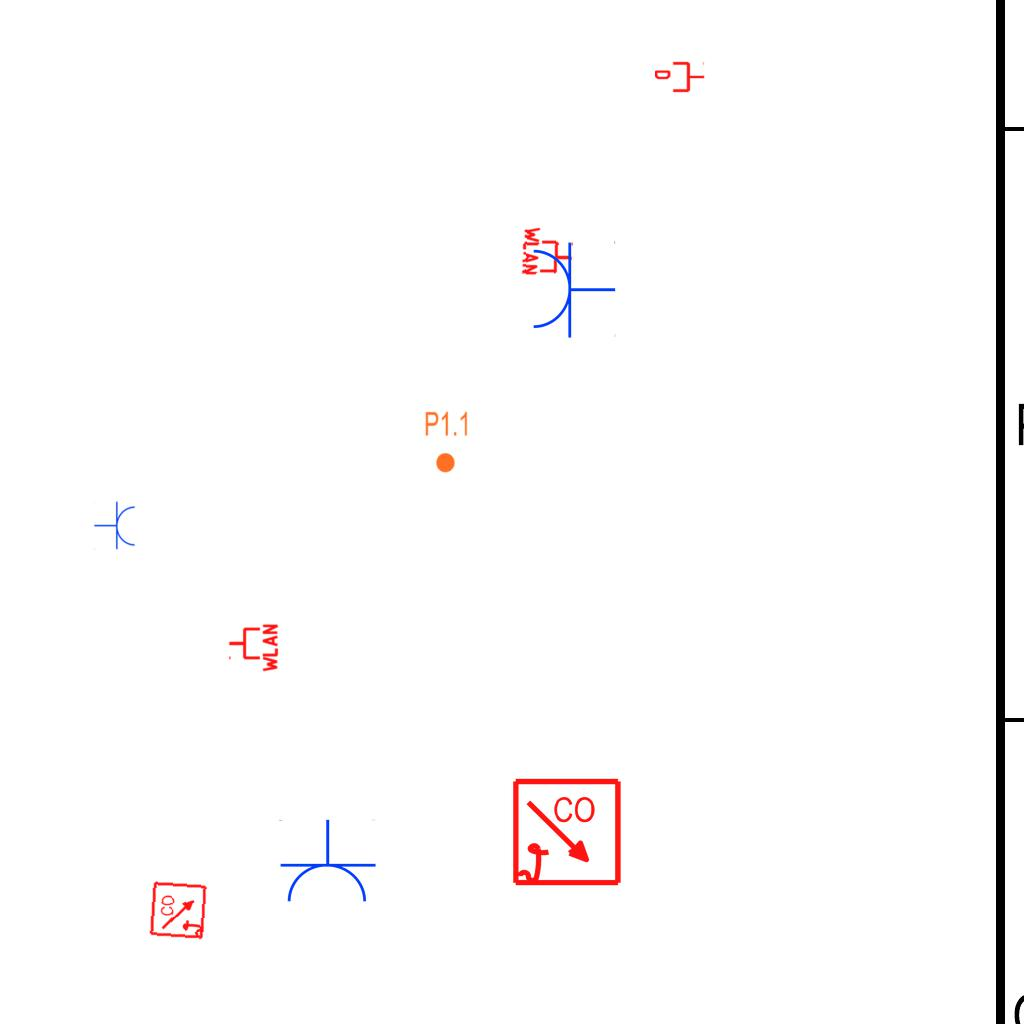Datenanschluss_einfach: (655, 60, 705, 94)
Downlight_LED_Einbauleuchten_Flur: (424, 410, 470, 474)
ROA_Rauchmelder_optisch_mit_Signalgeber_(Sockelsirene): (511, 777, 624, 890), (149, 880, 209, 940)
Schukosteckdose_einfach: (277, 819, 377, 906), (529, 239, 616, 339), (94, 501, 137, 551)
WLAN: (520, 224, 576, 280), (227, 622, 279, 674)
